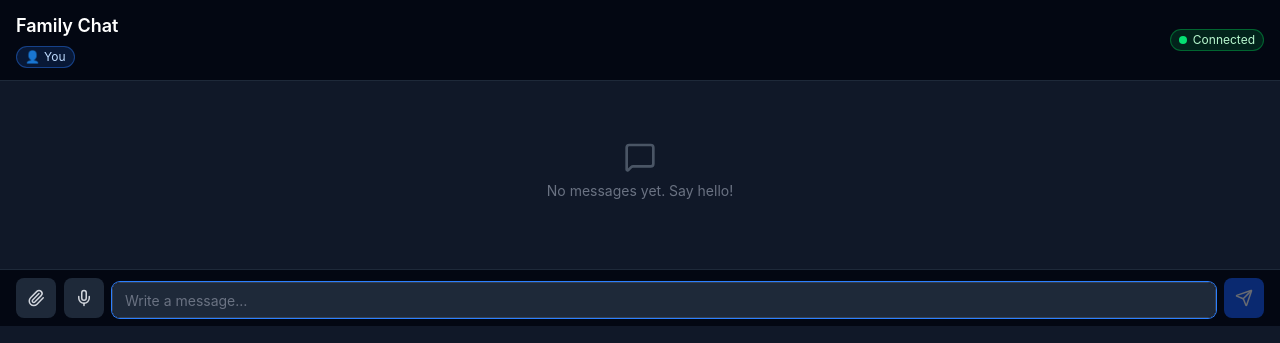
Test case: ChatView – optimistic message append › appends a newly sent message to the list
The width and height of the screenshot is (1280, 343).
expect the text "No messages yet. Say hello!" is shown: met, box top-left (547, 181), bottom-right (733, 201)
Type "New message from me" into the text box at [664, 300], box top-left (112, 282), bottom-right (1216, 318)
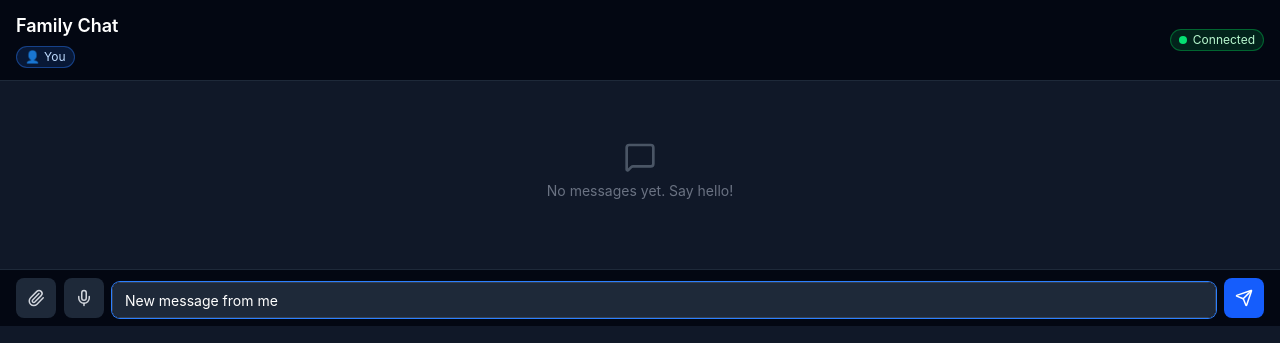
Press Enter in the text box, box top-left (112, 282), bottom-right (1216, 318)
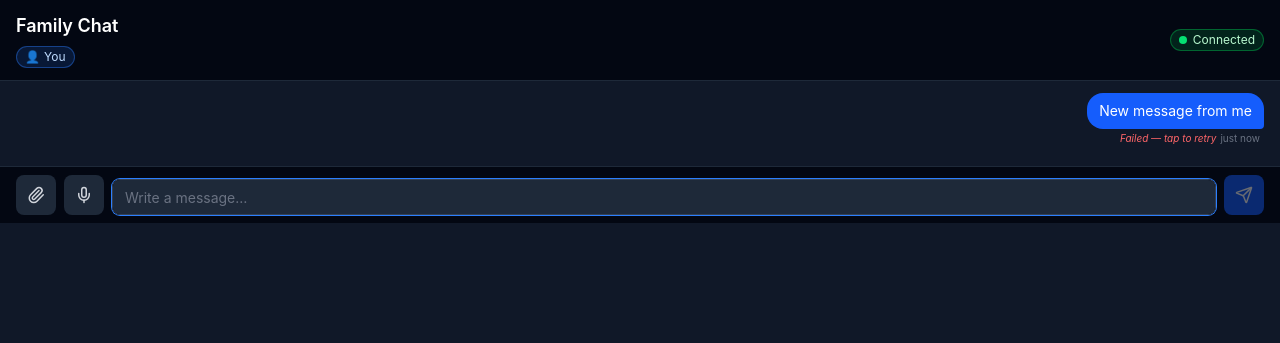
expect the text "New message from me" is shown: met, box top-left (1099, 101), bottom-right (1252, 121)
